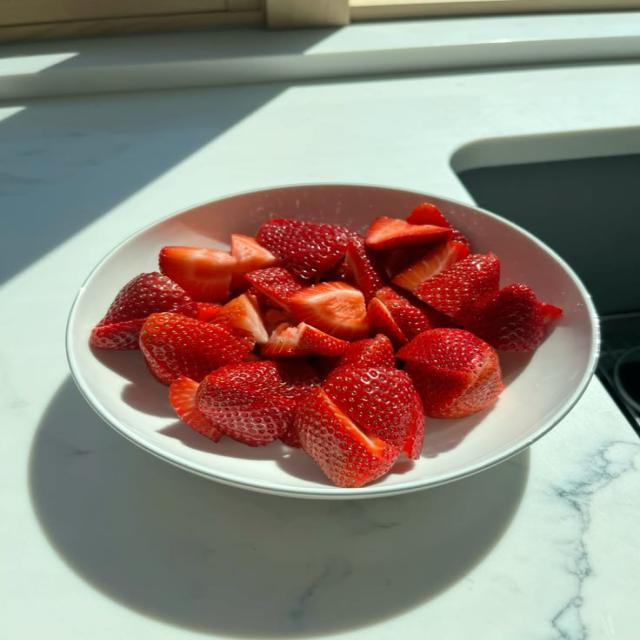strawberry sliced: (197, 361, 319, 446), (296, 389, 399, 487), (398, 329, 503, 418), (323, 365, 422, 450), (90, 273, 198, 349), (140, 313, 254, 385), (256, 219, 355, 280), (414, 253, 499, 322), (461, 284, 544, 351), (98, 273, 197, 326), (289, 282, 368, 340), (159, 246, 235, 302), (377, 287, 451, 339), (393, 241, 469, 291), (169, 376, 221, 441), (260, 323, 349, 357), (366, 217, 451, 249), (214, 293, 268, 343), (407, 203, 469, 245), (346, 237, 386, 302), (230, 234, 278, 288), (245, 267, 302, 310), (367, 298, 407, 349), (340, 334, 395, 367), (90, 319, 145, 349), (403, 391, 425, 459), (381, 247, 427, 278), (407, 203, 451, 227), (262, 307, 293, 335), (322, 260, 353, 283), (539, 303, 563, 325), (197, 303, 221, 322)
